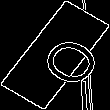O_NW: (16, 23, 94, 87)
